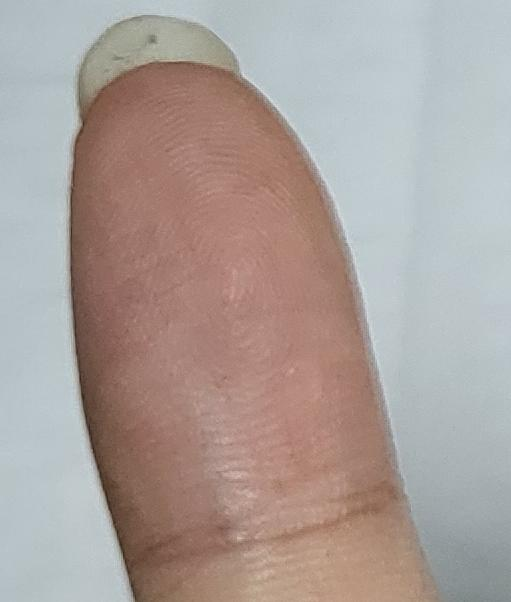Fingerprints: (71, 64, 393, 563)
